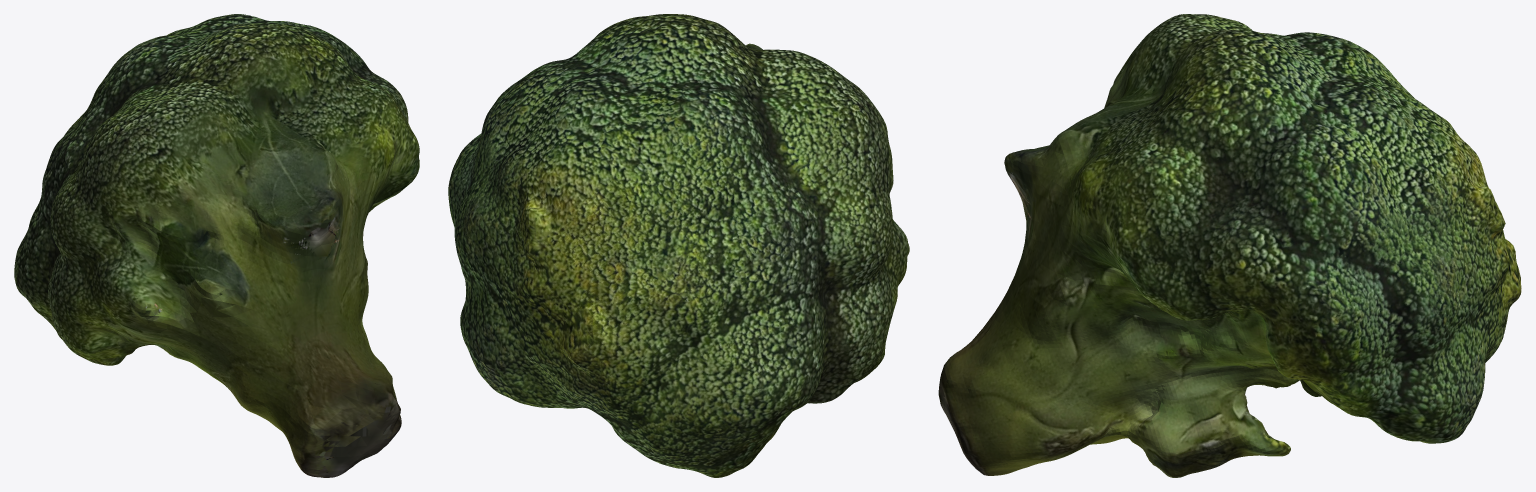
The model's file is brocoli.fbx.
3 views of the same model, side by side, from view 1: azimuth 30°, elevation 25°; view 2: azimuth 150°, elevation 25°; view 3: azimuth 270°, elevation 25° (orthographic). The views are drawn at different scales.
Visible parts, largest first — view 1: Model; view 2: Model; view 3: Model.
Part boxes in pixels (left/top/right/bottom): Model: left=14, top=14, right=419, bottom=477; Model: left=448, top=14, right=909, bottom=477; Model: left=938, top=14, right=1521, bottom=477.
Bounding box in the file's own units: 0.9075 × 1.05 × 0.8722.
1 material, 1 textured.
